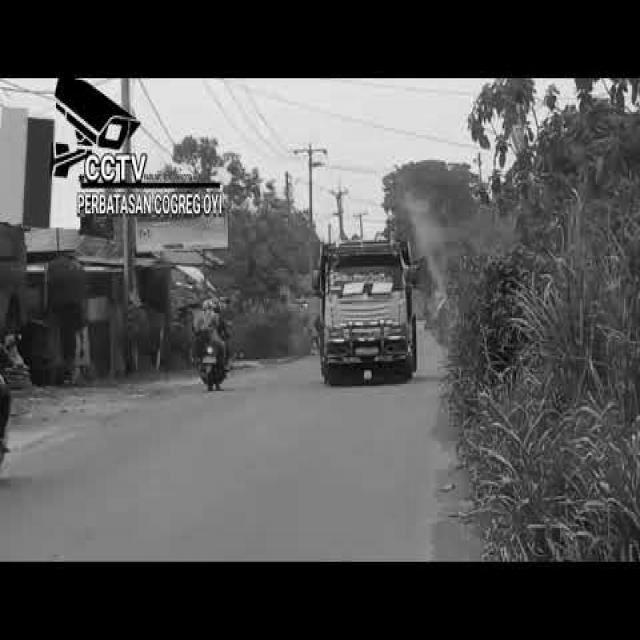truck: (310, 225, 420, 387)
